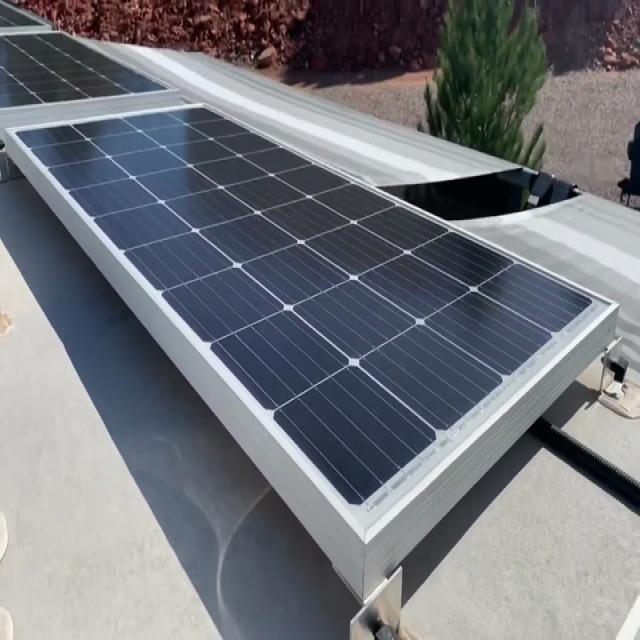Normal Solar Panel: (10, 102, 617, 536), (0, 2, 177, 118)
